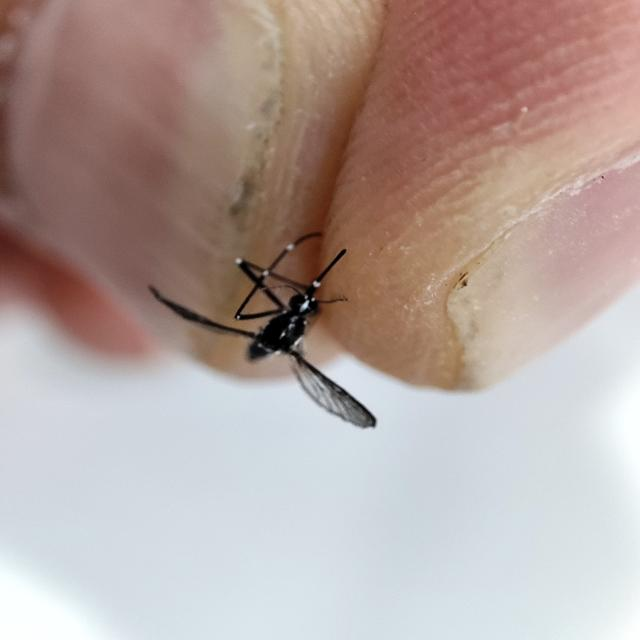albopictus: (134, 216, 381, 436)
